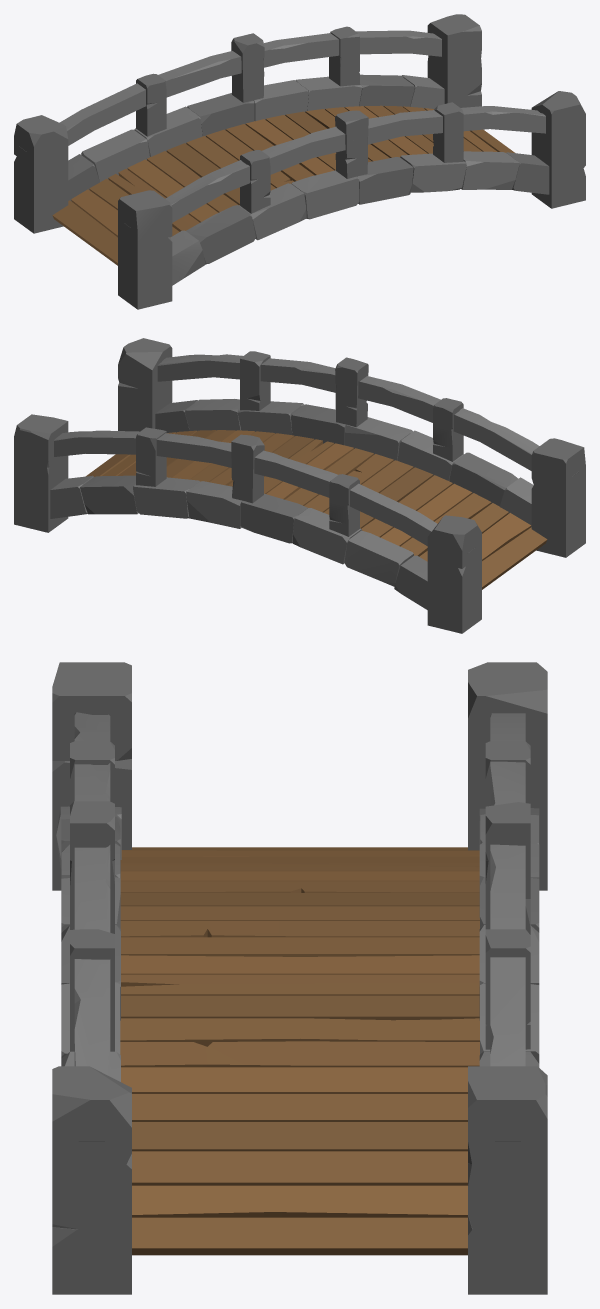
The model's file is Bridge_03.fbx.
3 views of the same model, one above another, from view 1: azimuth 30°, elevation 25°; view 2: azimuth 150°, elevation 25°; view 3: azimuth 270°, elevation 25° (orthographic). The views are drawn at different scales.
Visible parts, largest first — view 1: Bridge_03_LOD0; view 2: Bridge_03_LOD0; view 3: Bridge_03_LOD0.
Part boxes in pixels (left/top/right/bottom): Bridge_03_LOD0: left=14, top=14, right=585, bottom=309; Bridge_03_LOD0: left=14, top=338, right=585, bottom=633; Bridge_03_LOD0: left=52, top=662, right=547, bottom=1294.
Size of what is drawn, in the model's own units: 6.5 by 1.83 by 3.11.
